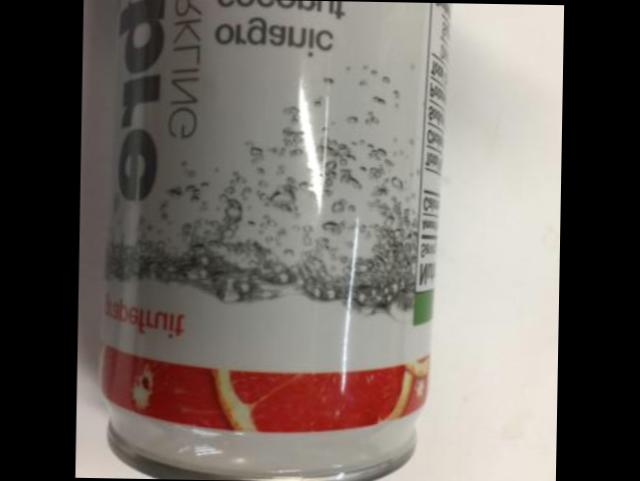metal: (104, 0, 453, 481)
